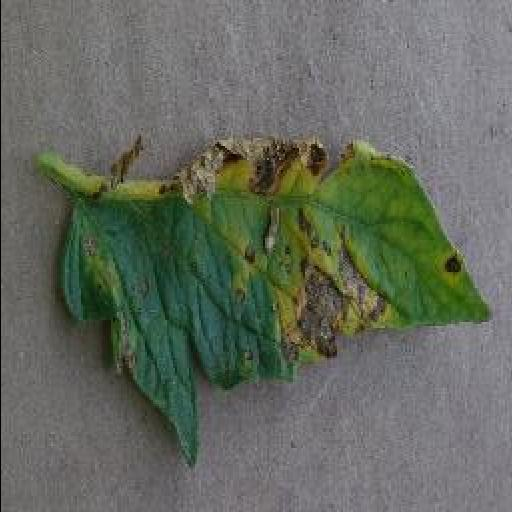disease_tomato: (62, 135, 492, 467)
